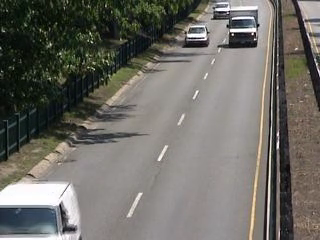car: (184, 24, 210, 48), (213, 1, 232, 22)
truck: (1, 179, 85, 240), (226, 5, 262, 51)
